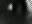person: (25, 1, 32, 17), (9, 4, 13, 12)
